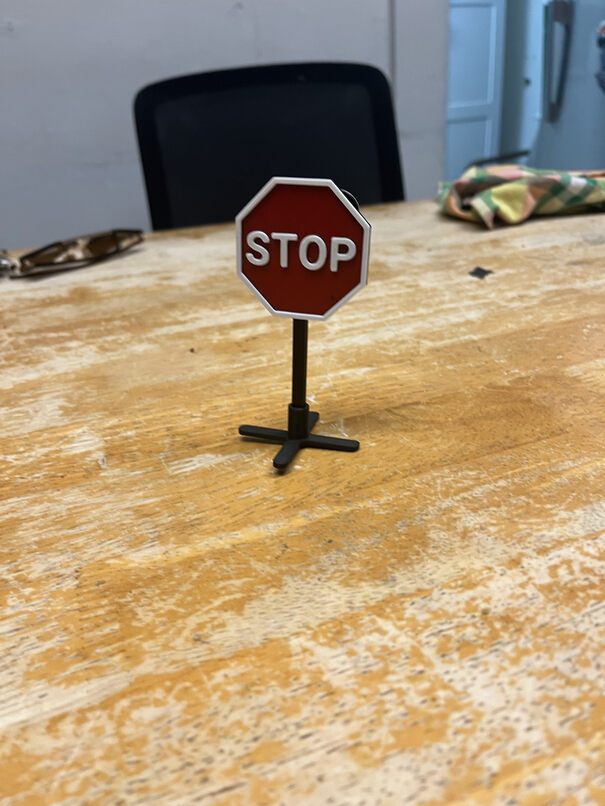sign_stop: (235, 174, 374, 331)
